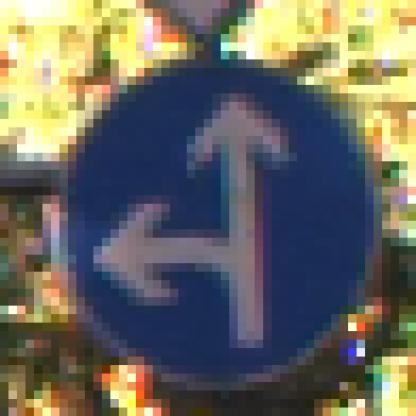Straight or Left: (44, 44, 366, 375)
